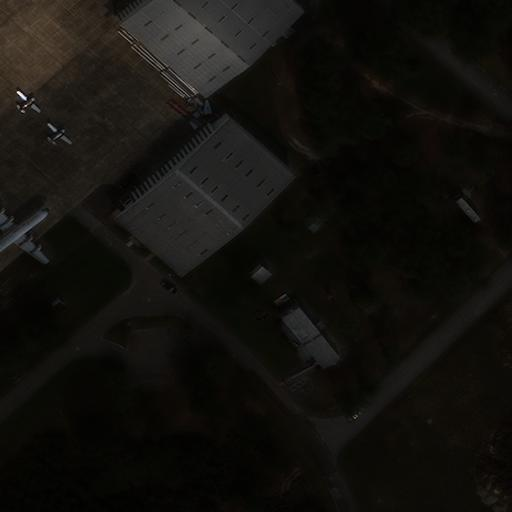Military Transport: (0, 201, 50, 264)
Small Civil Transport: (17, 90, 42, 112), (47, 122, 73, 143)
